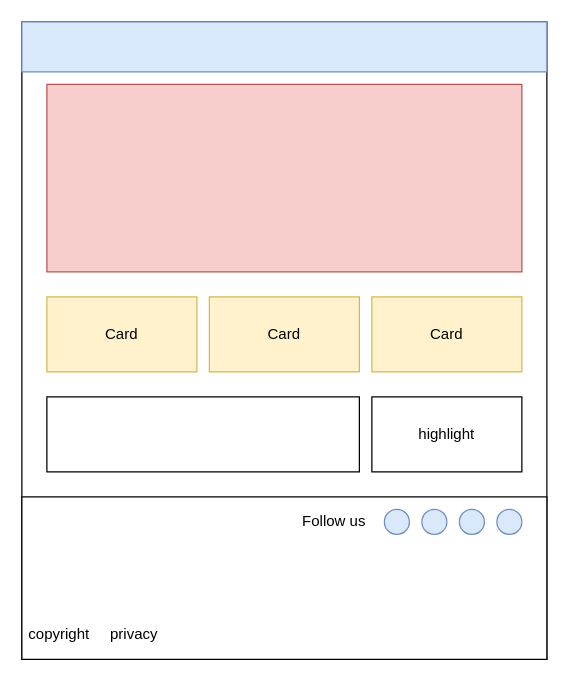
This 569x681 diagram has some shape labels left out. The shapes that lost their labels are listed below. From the top down, each one's centre as x and y in pixels, then its label:
pixel 284 177: Banner
pixel 202 434: wide card
